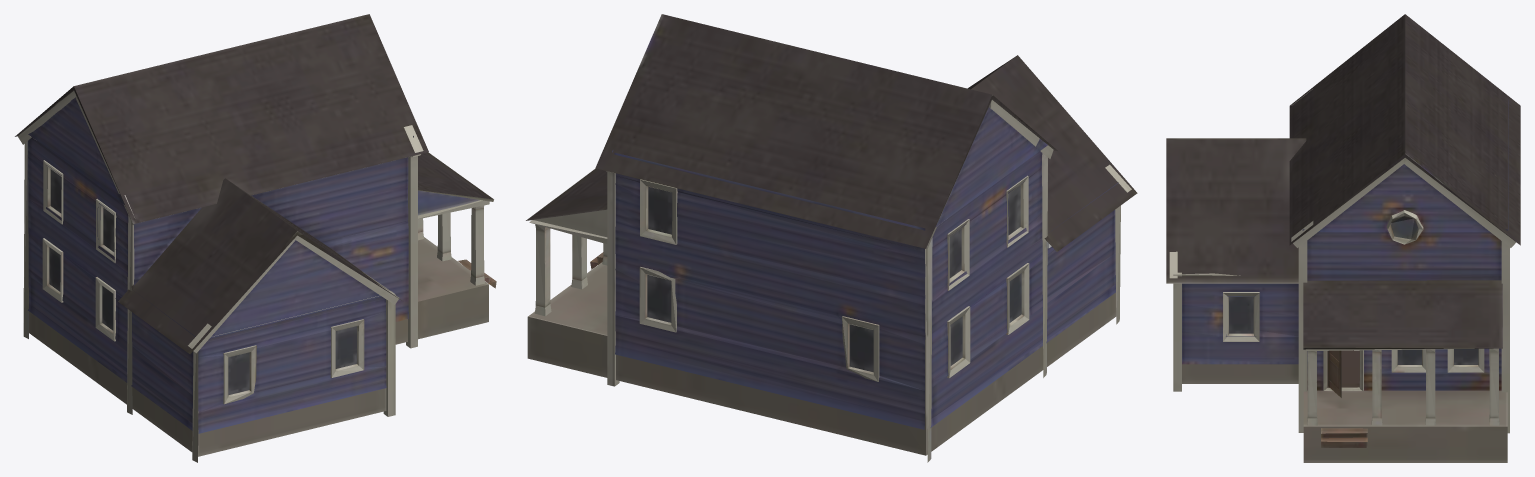
The model's file is blue_gable_house_lod1.glb.
The picture shows the model from 3 angles, left to right: view 1: azimuth 30°, elevation 25°; view 2: azimuth 150°, elevation 25°; view 3: azimuth 270°, elevation 25°; orthographic projection. The views are drawn at different scales.
Visible parts, largest first — view 1: blue_gable_house; view 2: blue_gable_house; view 3: blue_gable_house.
Boxes of the visible parts, x1=… form: blue_gable_house: x1=15, y1=14, x2=496, y2=462; blue_gable_house: x1=526, y1=14, x2=1137, y2=462; blue_gable_house: x1=1166, y1=14, x2=1520, y2=462.
Bounding box in the file's own units: 9.8 × 7.06 × 8.03.
Materials: 5 (5 with a texture image).
